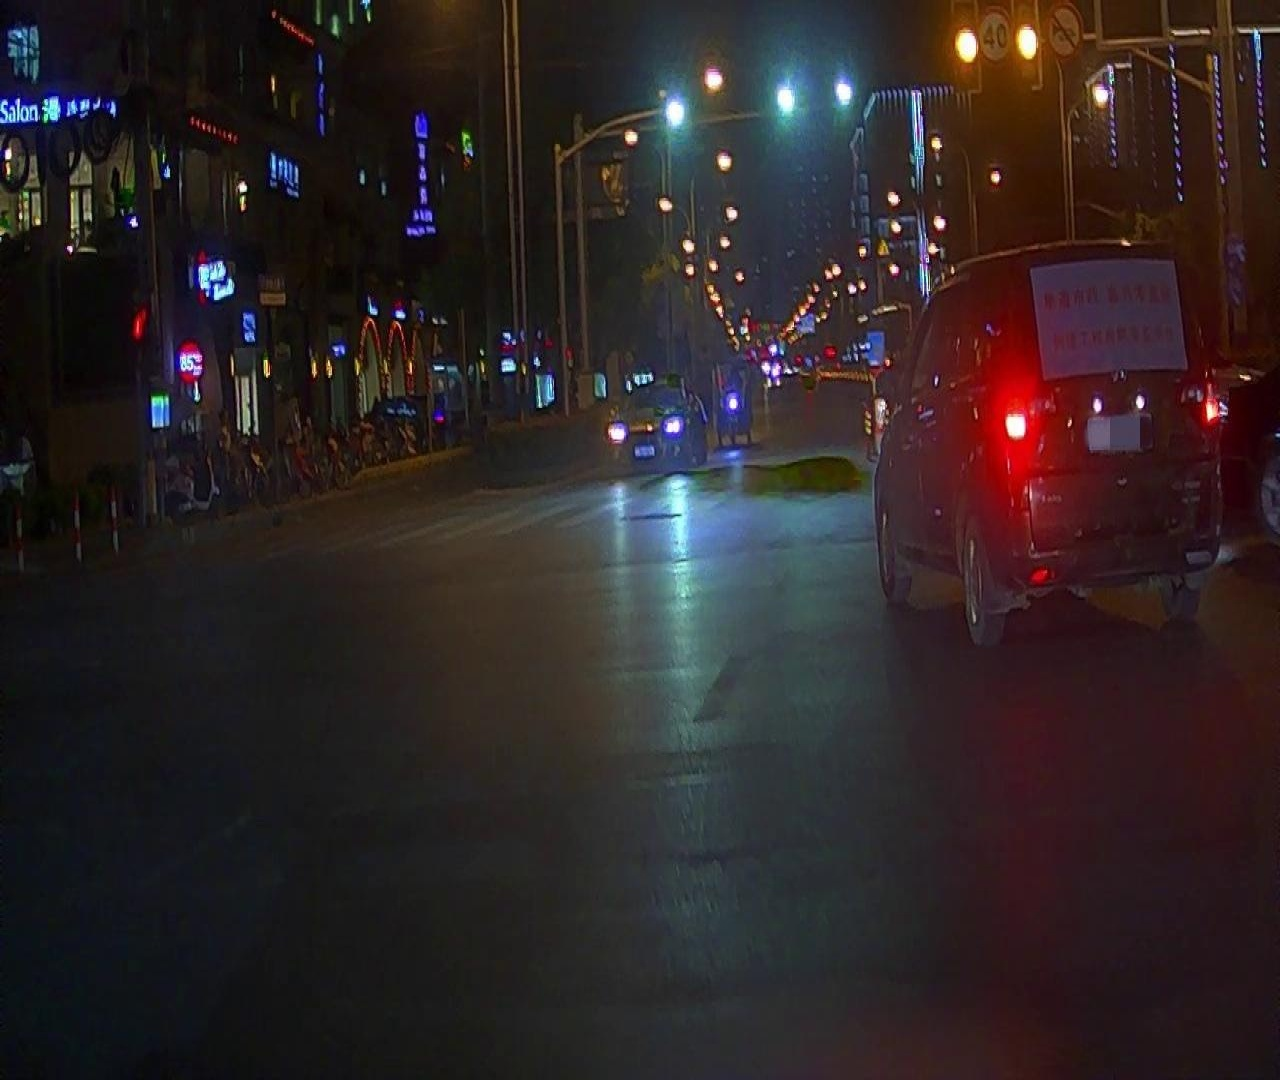yellow: (950, 3, 984, 102), (1011, 3, 1048, 93)
